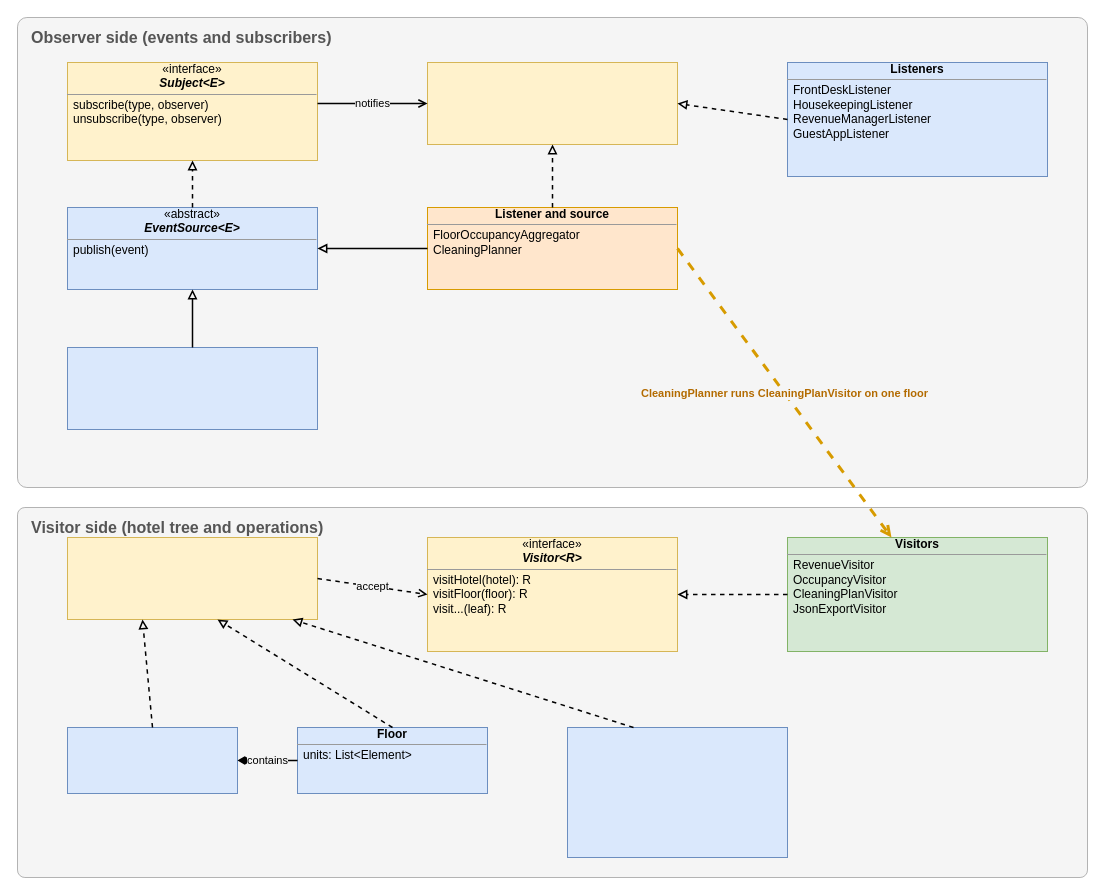
This 1105x895 diagram has some shape labels left out. Here are the shapes that lost their labels. From the top down, the centre of each, then its label:
At point (552, 103): "«interface» Observer<E> onEvent(event)".
At point (192, 388): "Sources BookingSource RoomStatusSource".
At point (192, 578): "«interface» Element accept(visitor)".
At point (152, 760): "Hotel floors: List<Floor>".
At point (677, 792): "Leaves StandardRoom Suite ConferenceHall Spa Restaurant".
